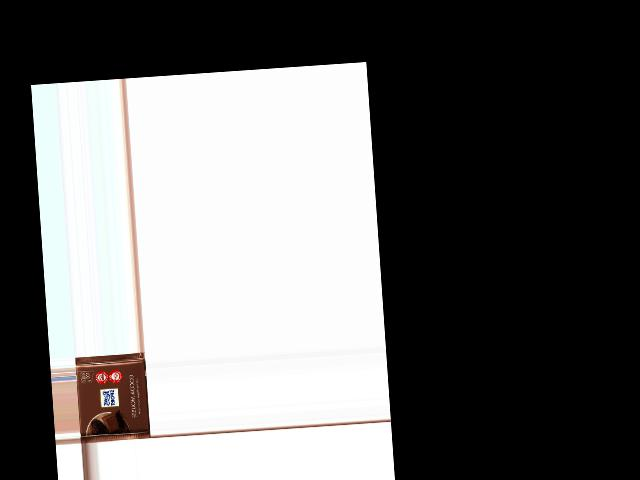chocolate: (75, 353, 151, 443)
